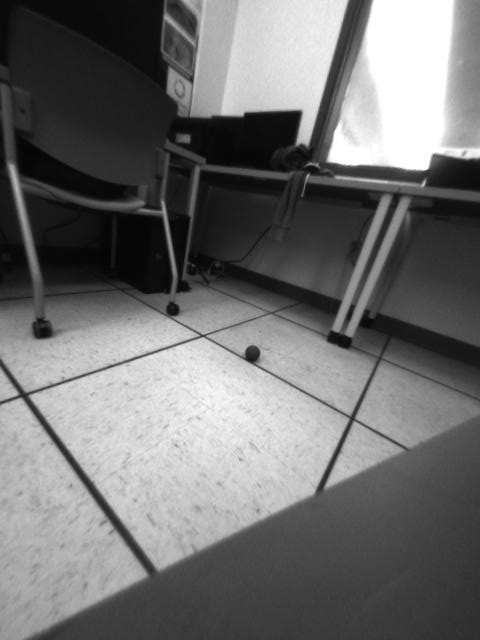dogtoy: (240, 337, 267, 371)
